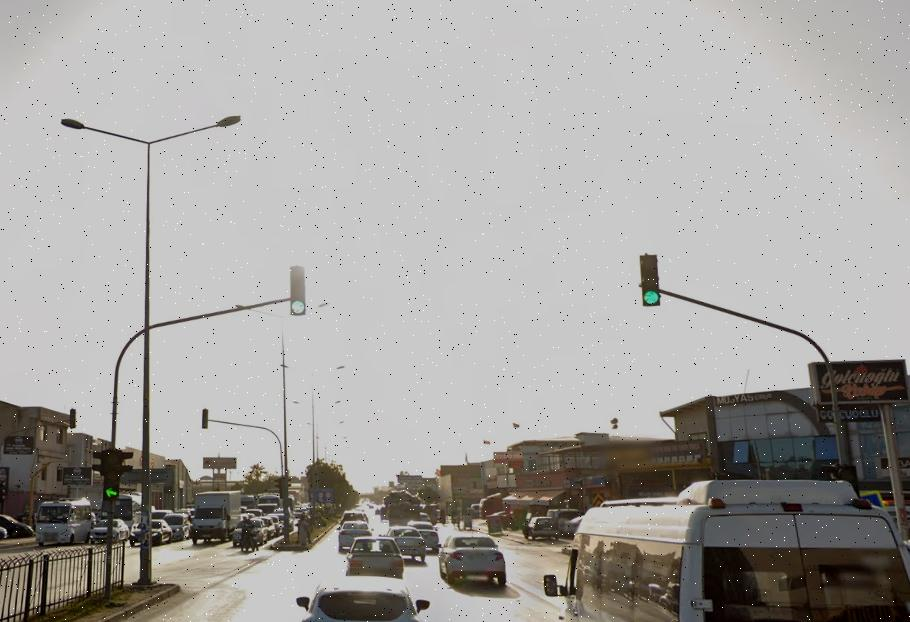greenlight: (638, 254, 660, 309), (286, 264, 307, 316)
nopark: (101, 450, 122, 503)
